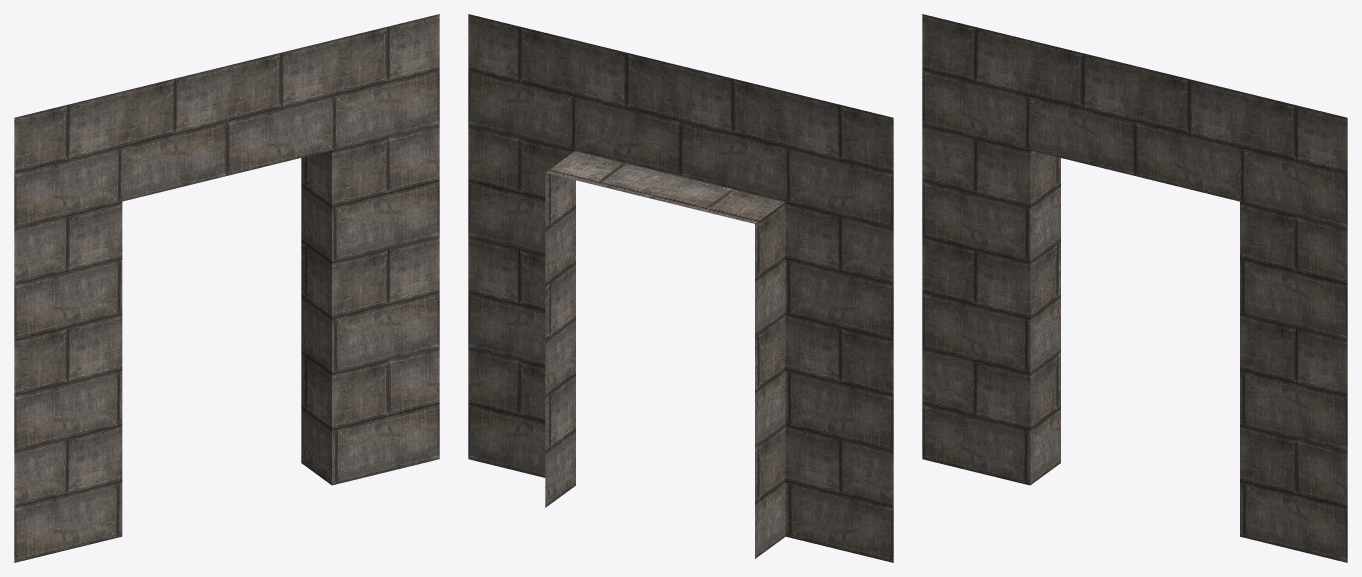
File: exterior_walls_bare_door.DAE
3 renders of one model, left to right at view 1: azimuth 30°, elevation 25°; view 2: azimuth 150°, elevation 25°; view 3: azimuth 330°, elevation 25°, orthographic.
Visible parts, largest first — view 1: Box006; view 2: Box006; view 3: Box006.
Part boxes in pixels (bbox=[...]): Box006: bbox=[14, 14, 439, 562]; Box006: bbox=[468, 14, 893, 562]; Box006: bbox=[922, 14, 1347, 562].
Bounding box in the file's own units: 4 × 4 × 0.5.
